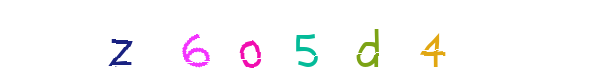4: (388, 0, 468, 80)
5: (259, 0, 339, 80)
6: (179, 0, 259, 80)
D: (330, 0, 410, 80)
O: (255, 0, 335, 80)
Z: (81, 0, 161, 80)
